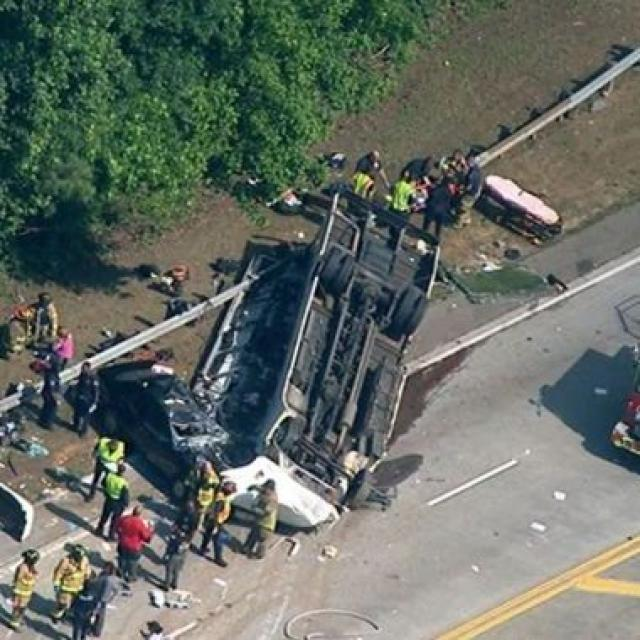traffic_incident: (168, 202, 450, 528)
